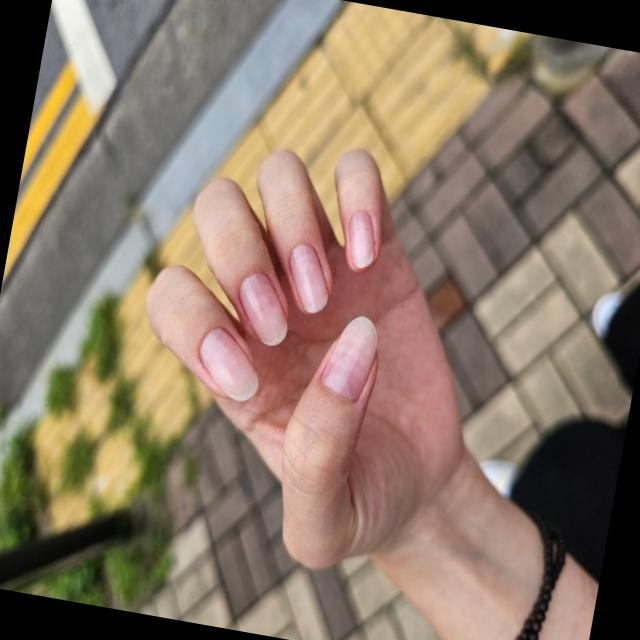Nail: (320, 315, 377, 402), (199, 326, 258, 401), (238, 270, 287, 344), (289, 242, 328, 312), (348, 209, 375, 268)
